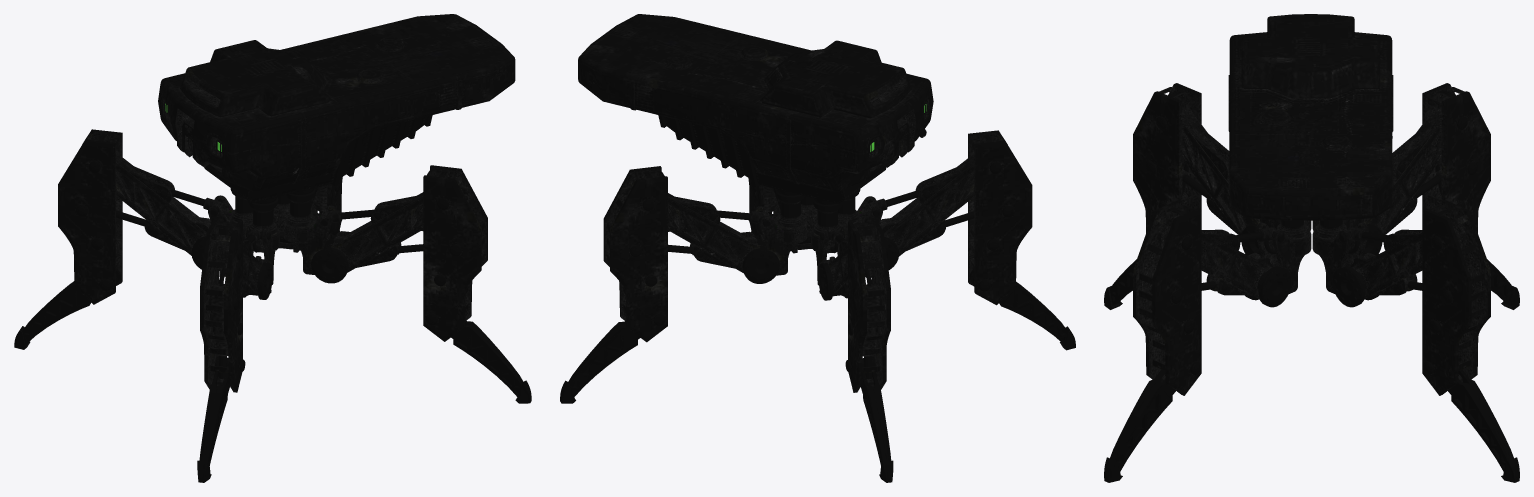
Rendered from ScifiSciderRobot.glb.
3 renders of one model, left to right at view 1: azimuth 30°, elevation 25°; view 2: azimuth 150°, elevation 25°; view 3: azimuth 270°, elevation 25°, orthographic. The views are drawn at different scales.
Parts seen in each view (by area): view 1: boot3, leg001, leg002, leg, leg003; view 2: boot3, leg003, leg, leg002, leg001; view 3: boot3, leg001, leg003, leg002, leg.
Part boxes in pixels (x1,y1,x2,y2): boot3: [158, 14, 515, 203]; leg001: [283, 165, 531, 403]; leg002: [14, 129, 252, 349]; leg: [197, 197, 279, 482]; leg003: [273, 177, 342, 252]; boot3: [578, 14, 933, 203]; leg003: [560, 166, 807, 403]; leg: [838, 130, 1075, 350]; leg002: [811, 198, 893, 482]; leg001: [748, 178, 817, 253]; boot3: [1228, 14, 1393, 220]; leg001: [1104, 200, 1311, 482]; leg003: [1312, 200, 1519, 482]; leg002: [1312, 83, 1519, 309]; leg: [1104, 83, 1311, 309].
Bounding box in the file's own units: 3.04 × 2.34 × 2.59.
1 material, 1 textured.
